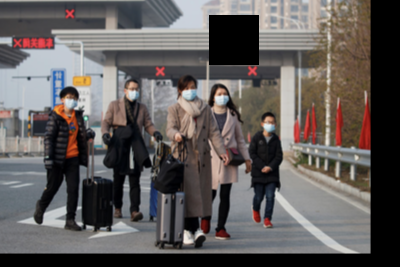with_mask: (212, 91, 230, 106), (180, 84, 196, 100), (261, 119, 276, 134), (126, 85, 140, 101), (63, 94, 76, 109)
